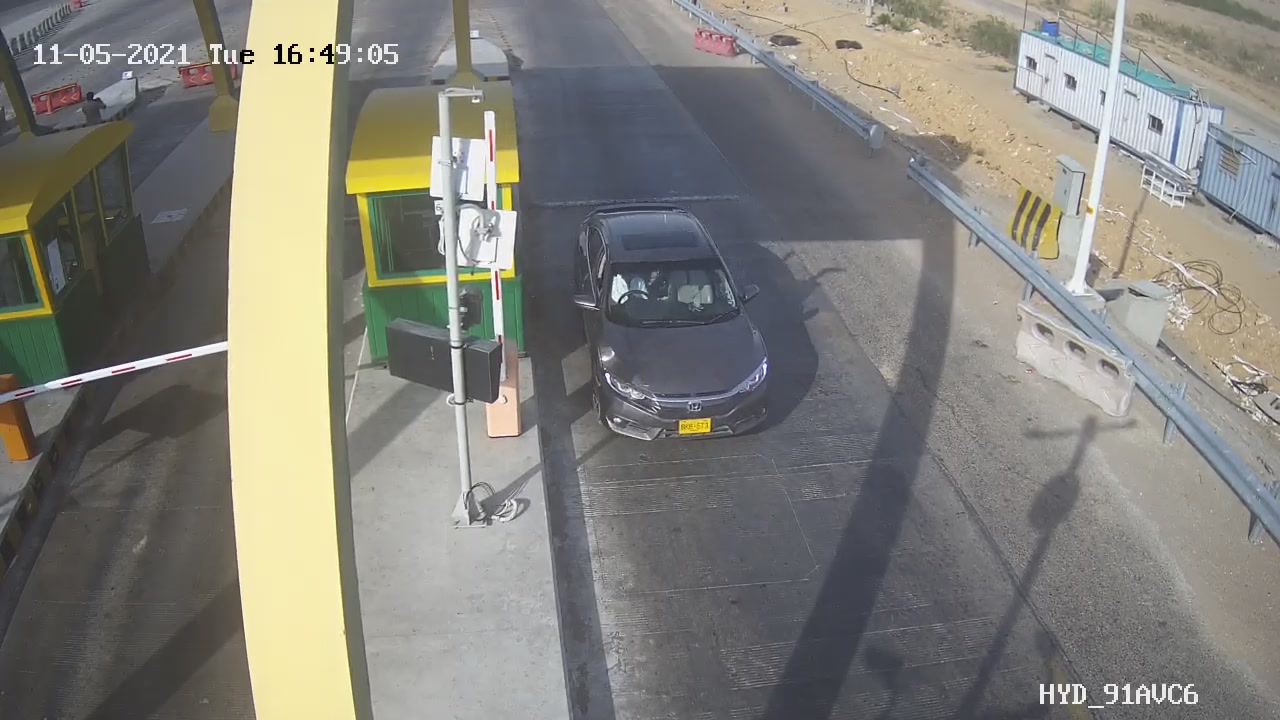F1: (555, 187, 796, 464)
